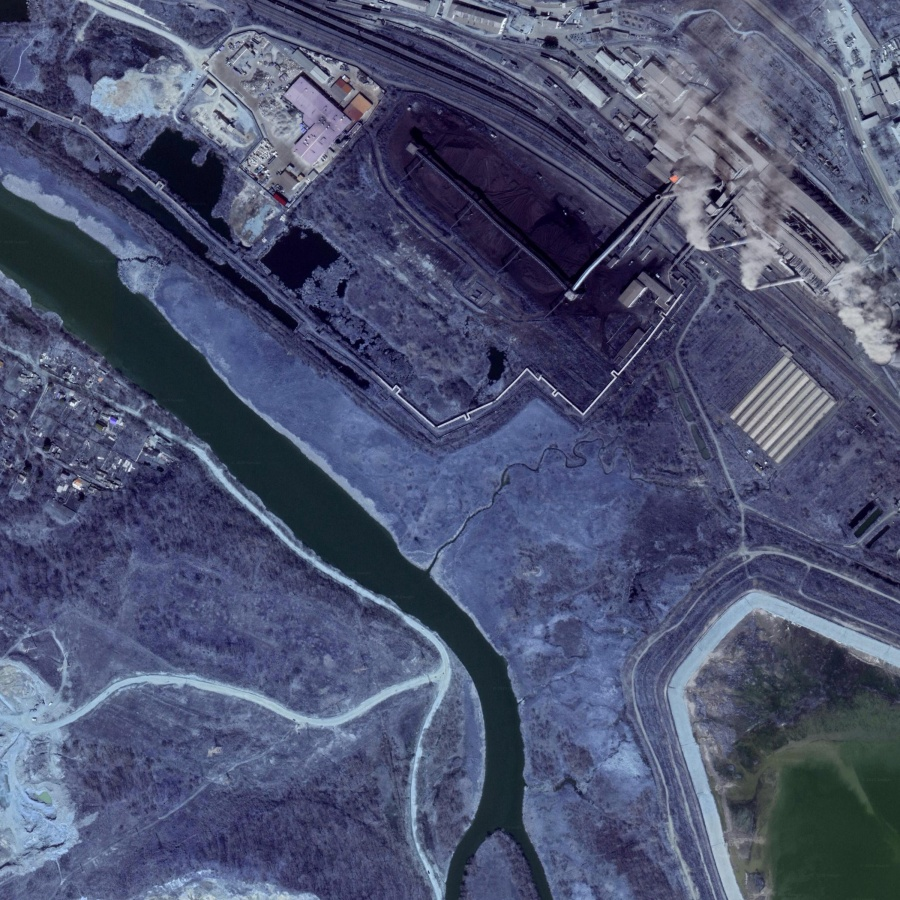PowerPlant: (382, 49, 823, 342)
